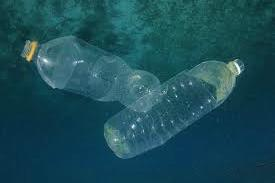Plastic: (97, 45, 250, 175), (9, 32, 162, 118)
